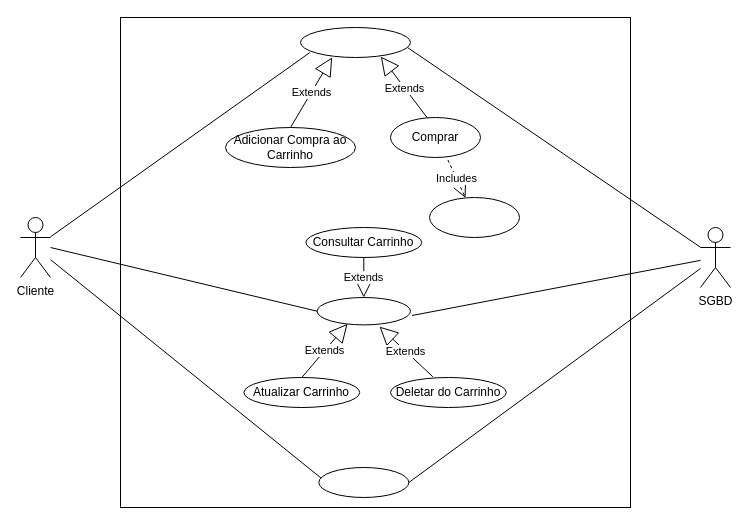
This 750x525 diagram has some shape labels left out. Here are the shapes that lost their labels. From the top down, the centre of each, then its label:
(x=355, y=42): Acessar anúncio
(x=474, y=217): Inserir no extrato
(x=363, y=310): Carrinho
(x=363, y=482): Consultar Extrato
